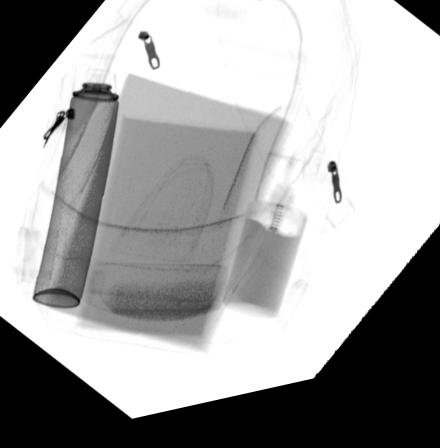Sprayer: (31, 54, 121, 311)
